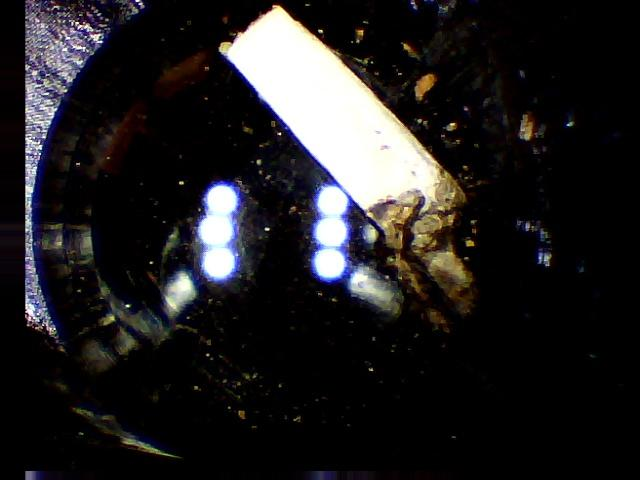megot: (218, 1, 481, 330)
